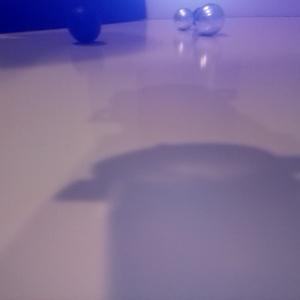alive_ball: (193, 4, 224, 35), (173, 6, 193, 31)
dead_ball: (67, 7, 103, 43)
